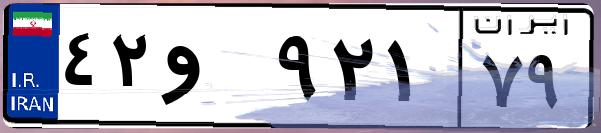1: (385, 28, 445, 110)
2: (330, 28, 385, 110), (110, 28, 158, 98)
4: (57, 26, 110, 100)
7: (475, 38, 525, 113)
9: (270, 28, 330, 110), (525, 38, 570, 115)
و: (158, 20, 270, 120)
